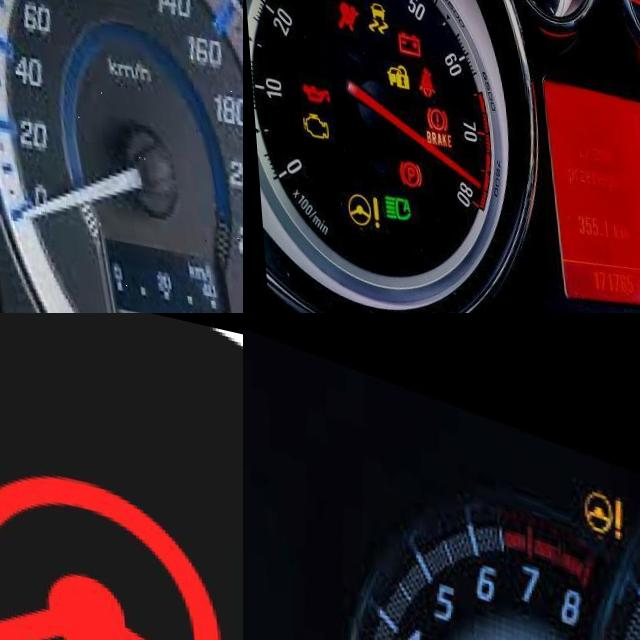Electronic Power Steering: (0, 441, 243, 640), (580, 464, 622, 523), (339, 184, 376, 229)
Seat Belt: (414, 57, 431, 93)
